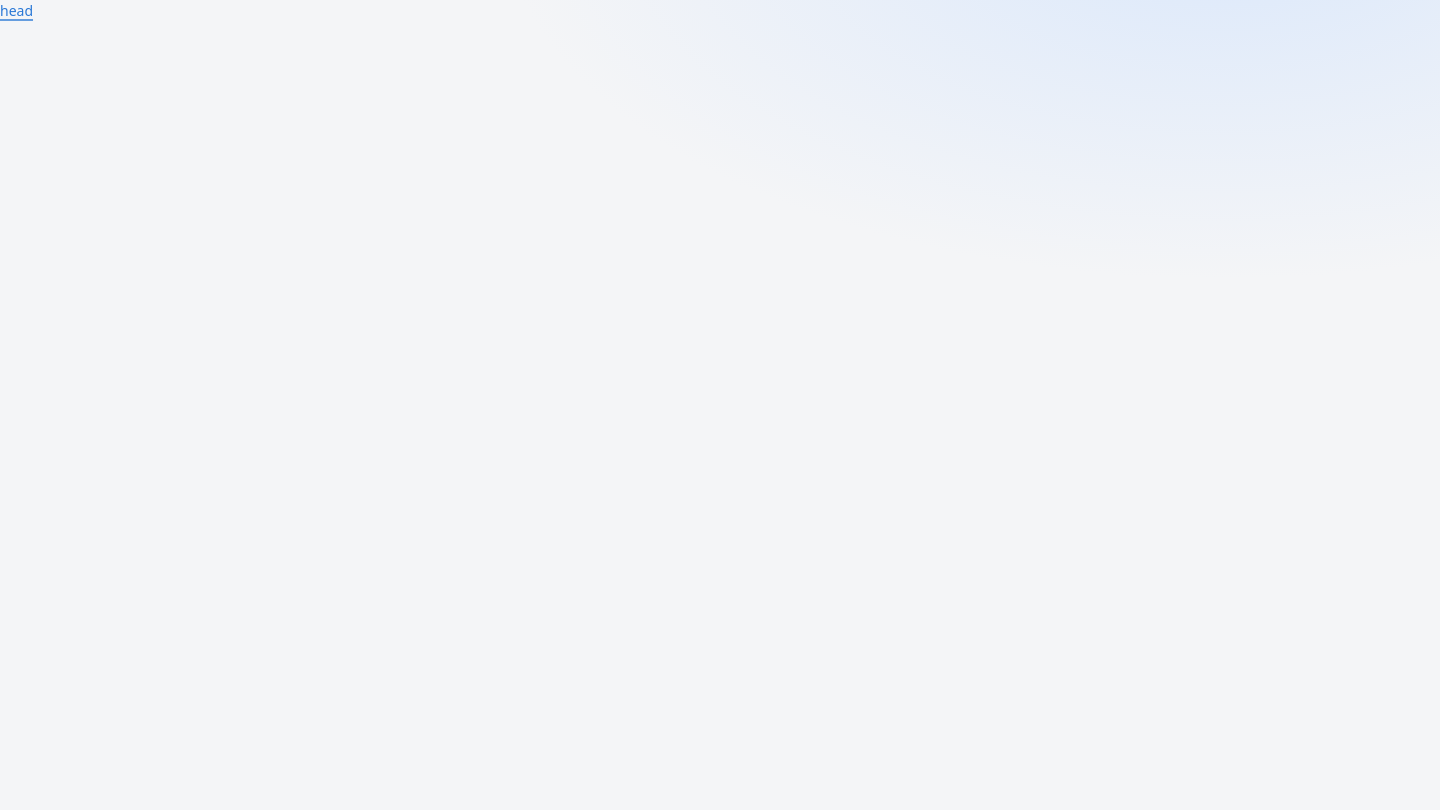
Scenario: term cards › open with a plain meaning and the value on the user’s own system
Click the button "head" at (16, 10), box [0, 0, 33, 21]
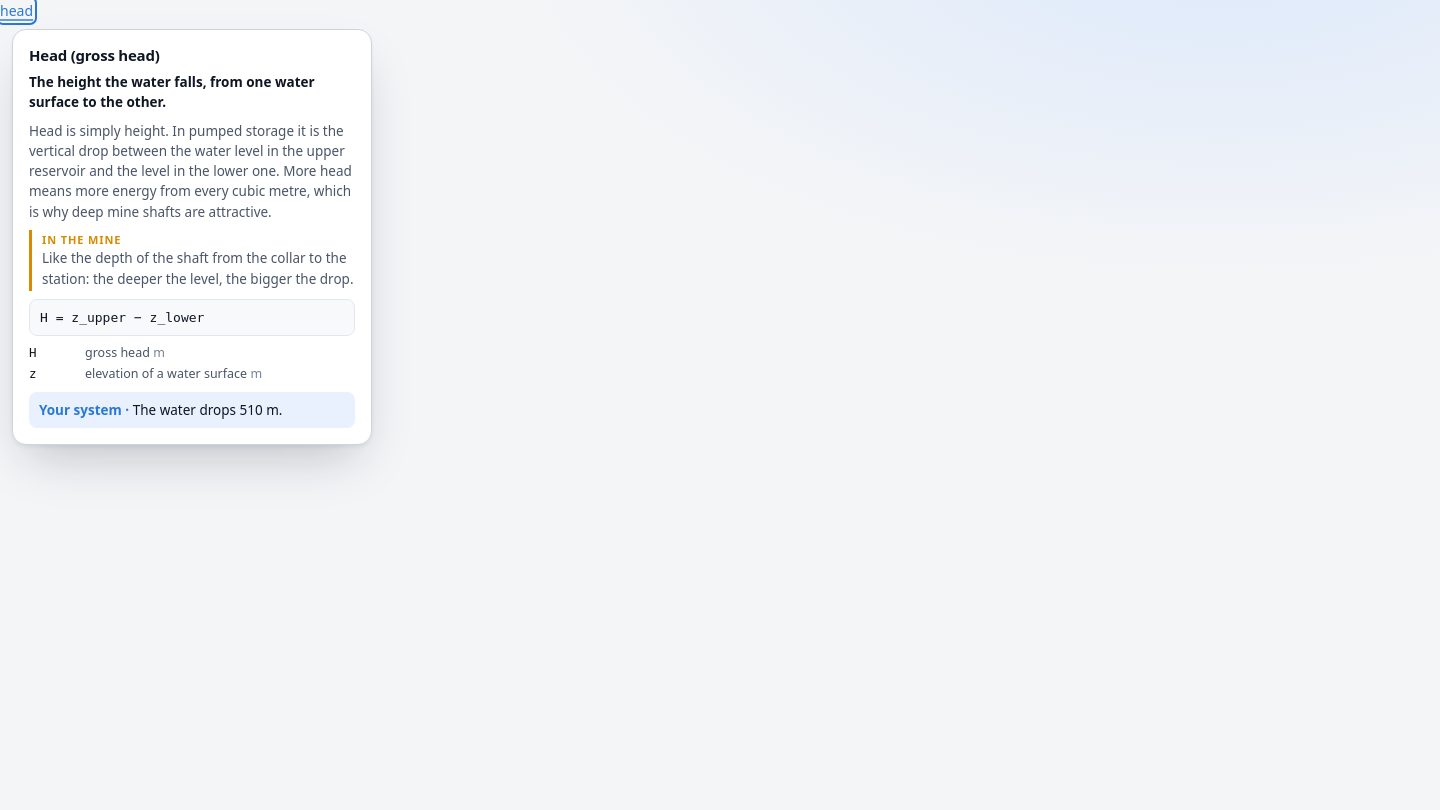
expect the text "height the water falls" is shown: met, box [29, 73, 315, 111]
expect the text "The water drops 510 m." is shown: met, box [29, 392, 355, 428]
